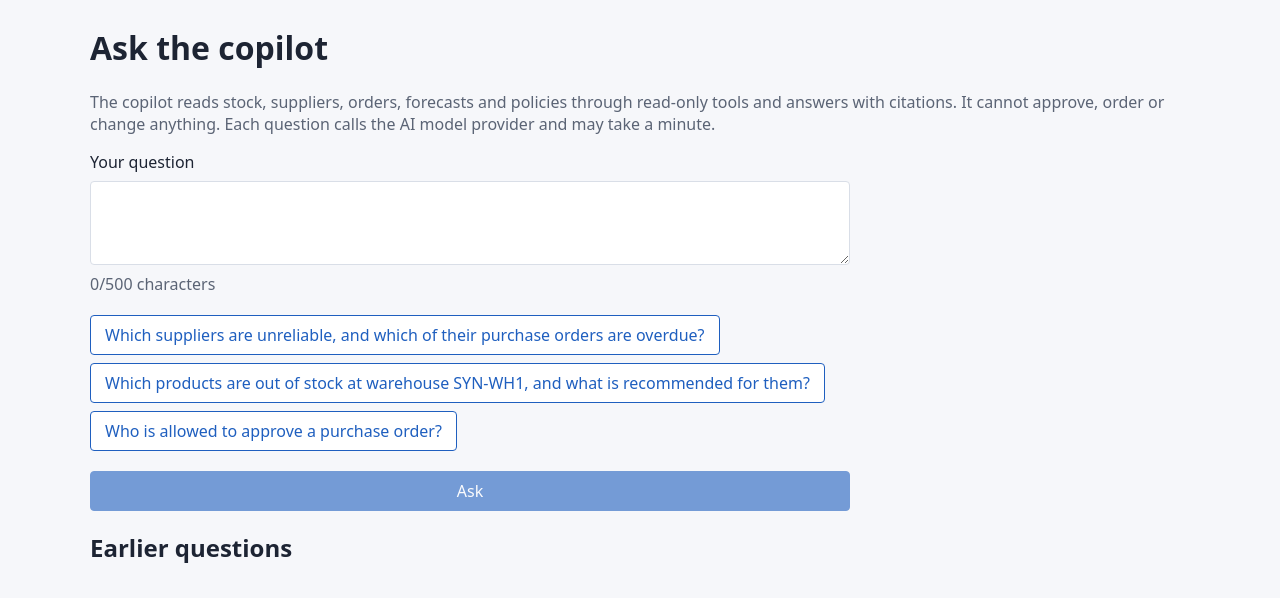
copilot › marks an answer without checked citations as not verified
The image size is (1280, 598).
Type "x" into the text box labelled "Your question". click: coordinates (470, 223)
box: [90,181,850,265]
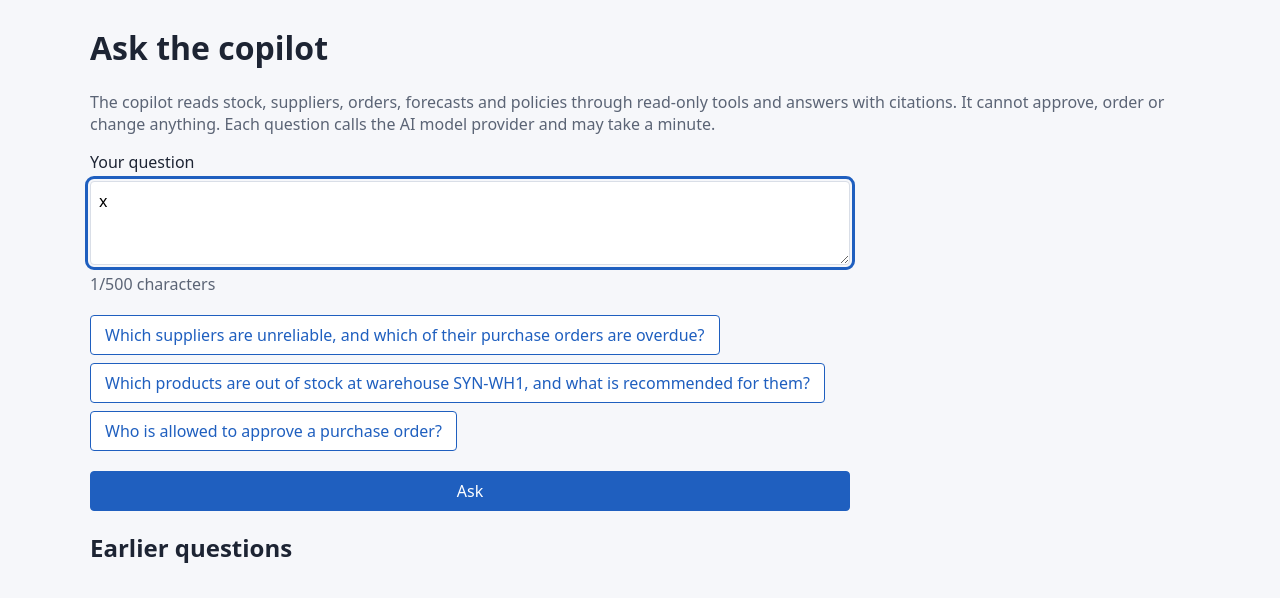
Click the button "Ask". click: coordinates (470, 491)
box: [90,471,850,511]
(page scrolled)
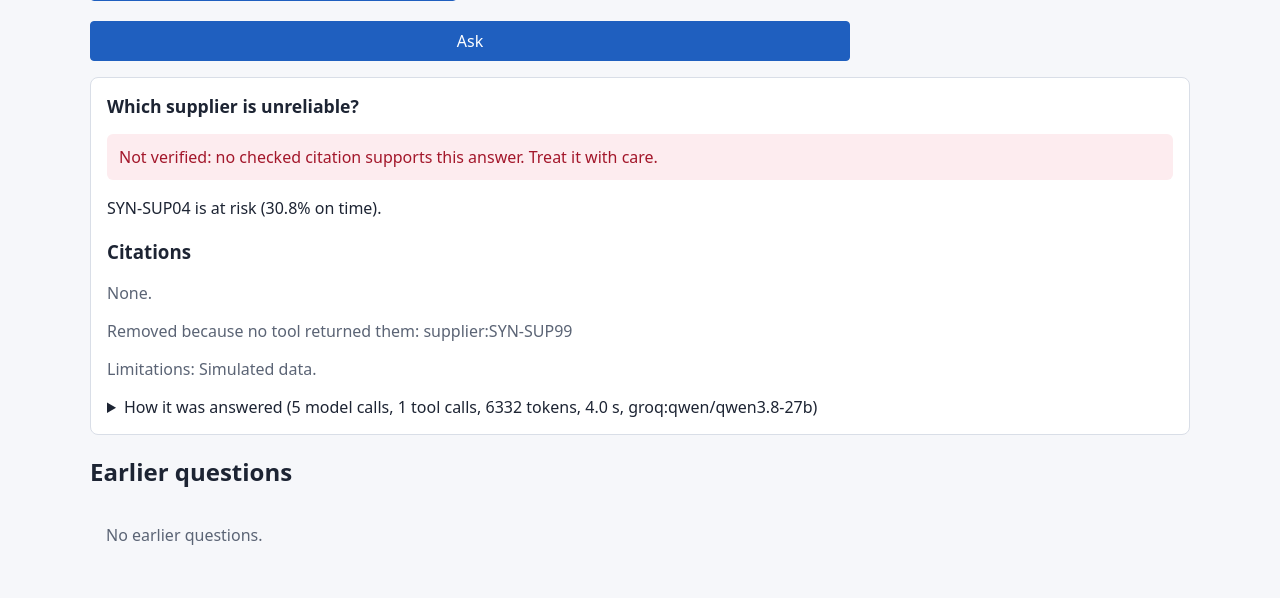
Expected: the text "Not verified" is shown, [119,146,658,168]
Expected: the text "Removed because no tool returned them: supplier:SYN-SUP99" is shown, [107,320,572,342]
